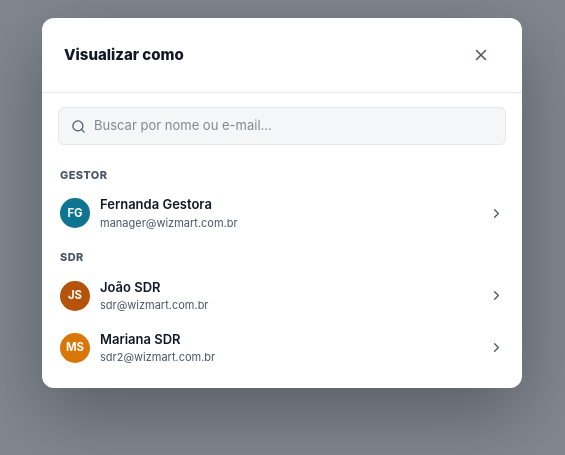
ViewAsModal — busca › busca sem resultado mostra o estado vazio
Type "zzz" into the field named "Buscar usuário" at x=294, y=126, box [94, 116, 493, 136]
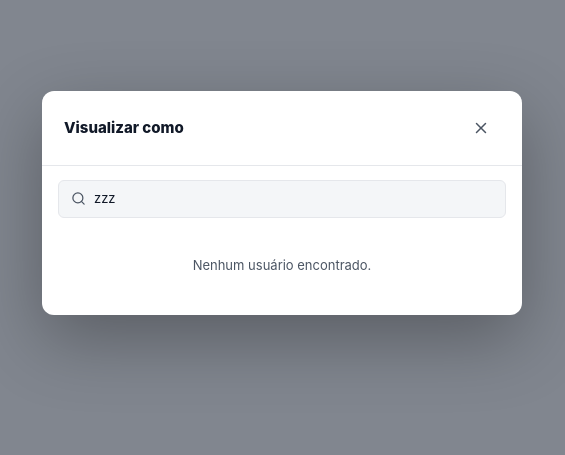
Now the text "Nenhum usuário encontrado." is shown, box [193, 256, 371, 272]
